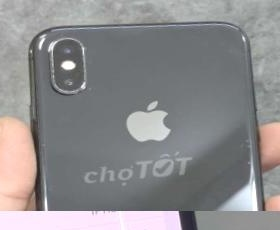scratch: (234, 131, 254, 151), (74, 74, 96, 91), (198, 21, 219, 37), (34, 134, 48, 150), (244, 157, 254, 170)
screen_defect: (68, 211, 222, 230)
